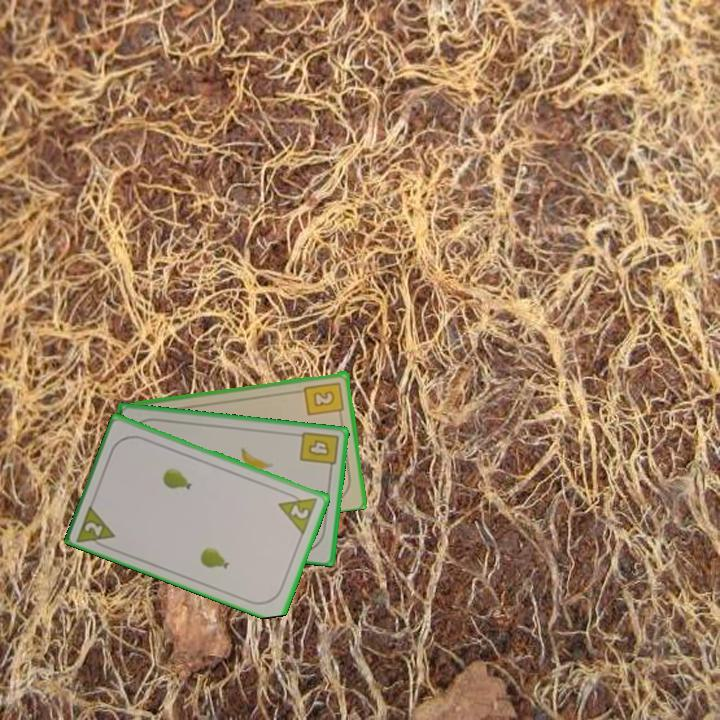2b: (301, 378, 347, 420)
2p: (275, 487, 321, 537), (74, 500, 119, 551)
4b: (296, 427, 341, 474)
